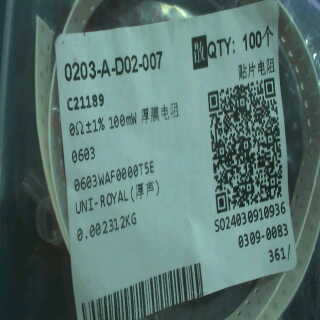0R: (69, 109, 140, 165)
